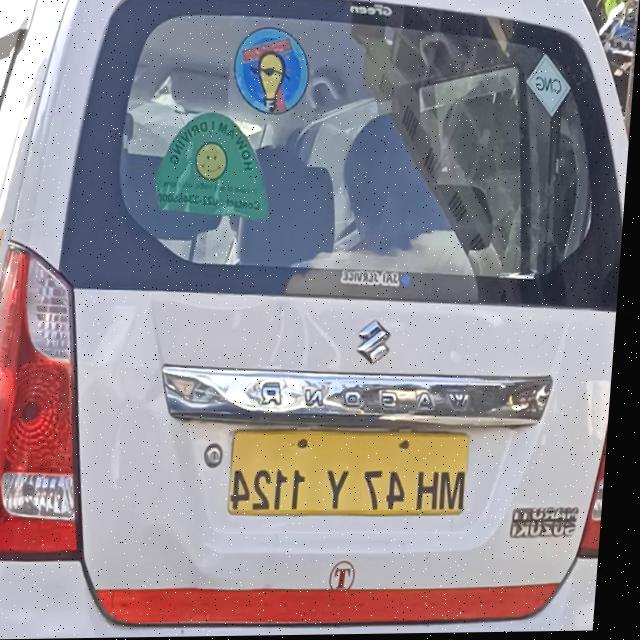plate: (232, 425, 479, 523)
